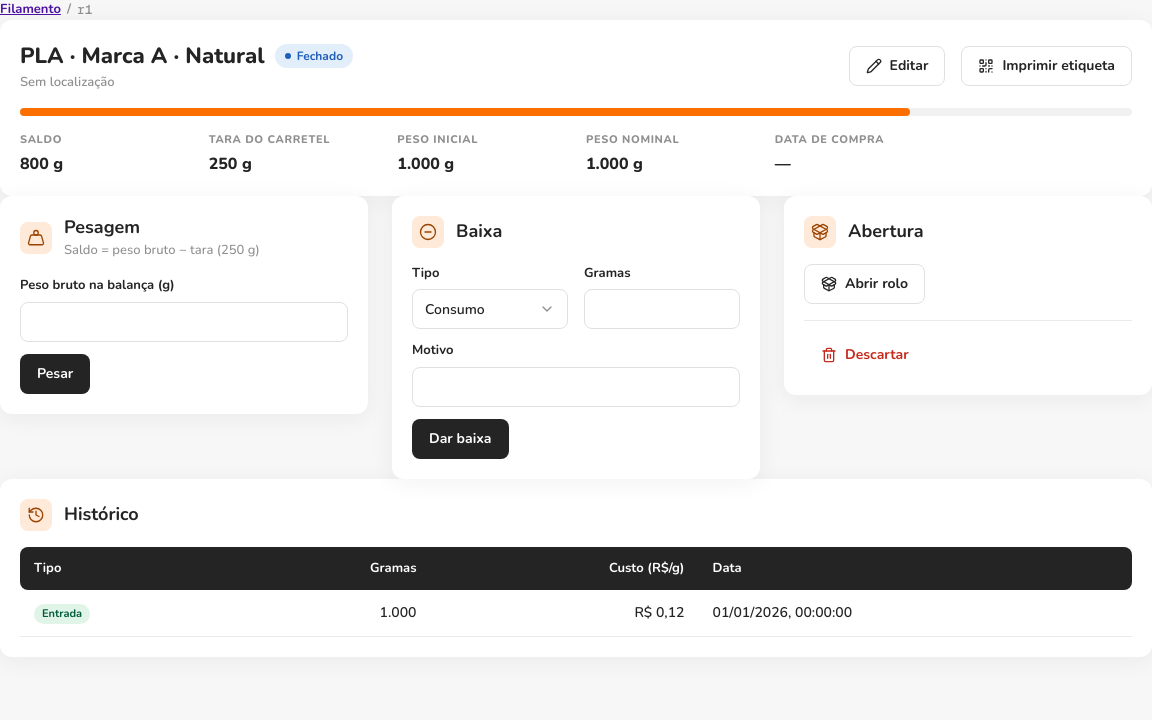
Test: Roll detail page › confirms before discarding
The width and height of the screenshot is (1152, 720).
Check: the text "entrada" is shown, box 34,604 -> 90,624
Click the button "Descartar".
click(865, 354)  # box 804,334 -> 926,374
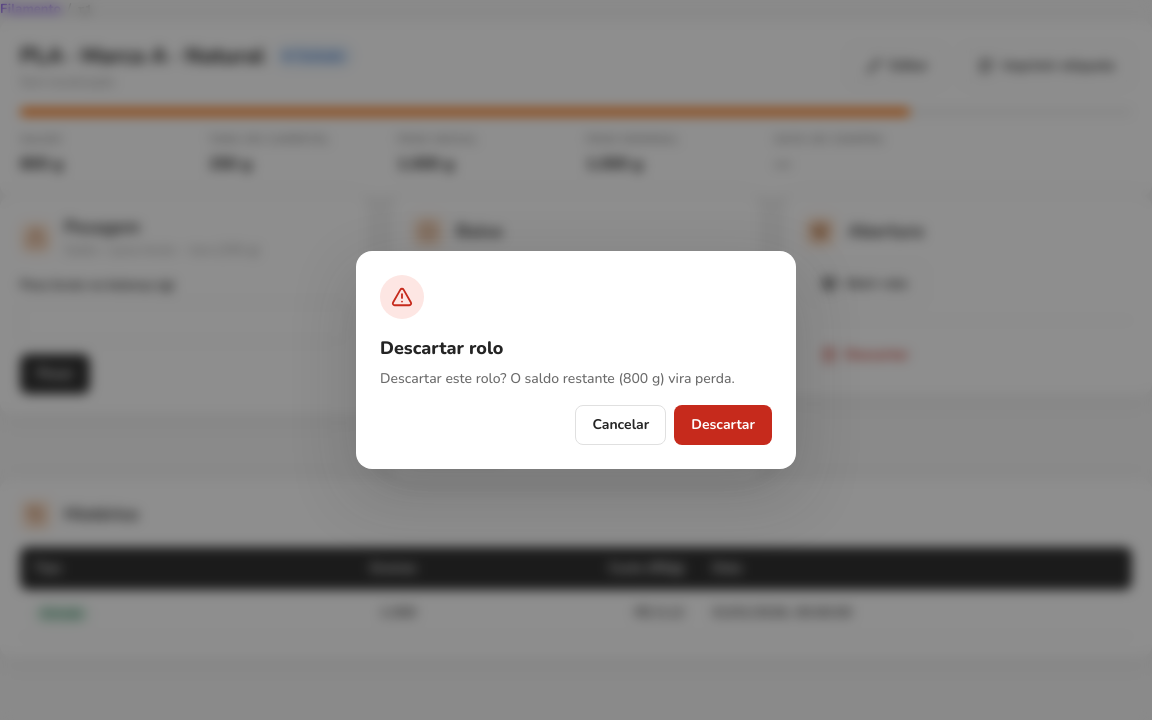
Click the button "Cancelar".
click(621, 425)  # box 576,405 -> 666,445
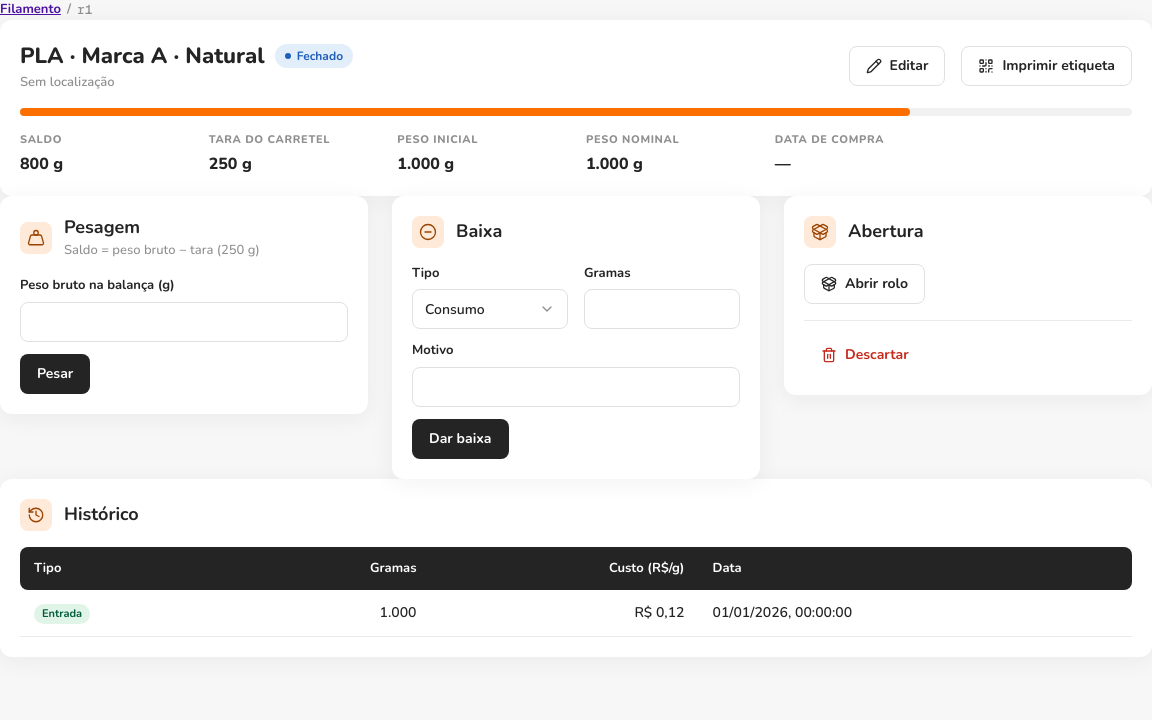
Check: the dialog is gone
Click the button "Descartar".
click(865, 354)  # box 804,334 -> 926,374
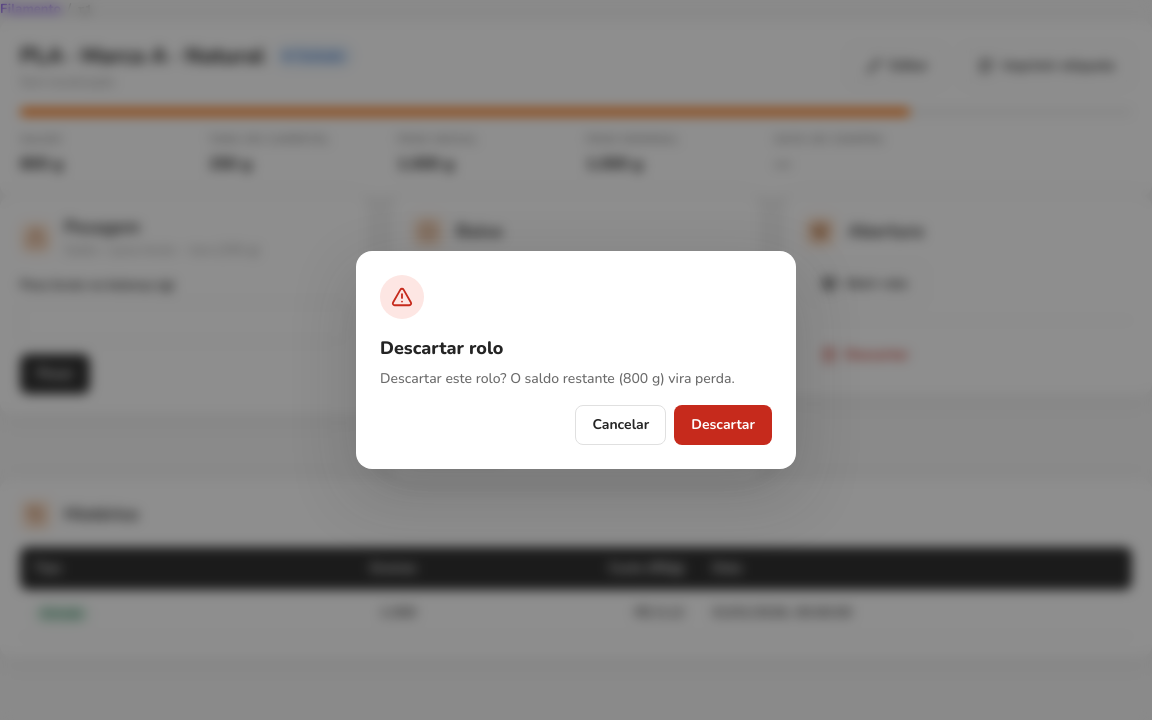
Click the button "Descartar".
click(723, 425)  # box 674,405 -> 772,445
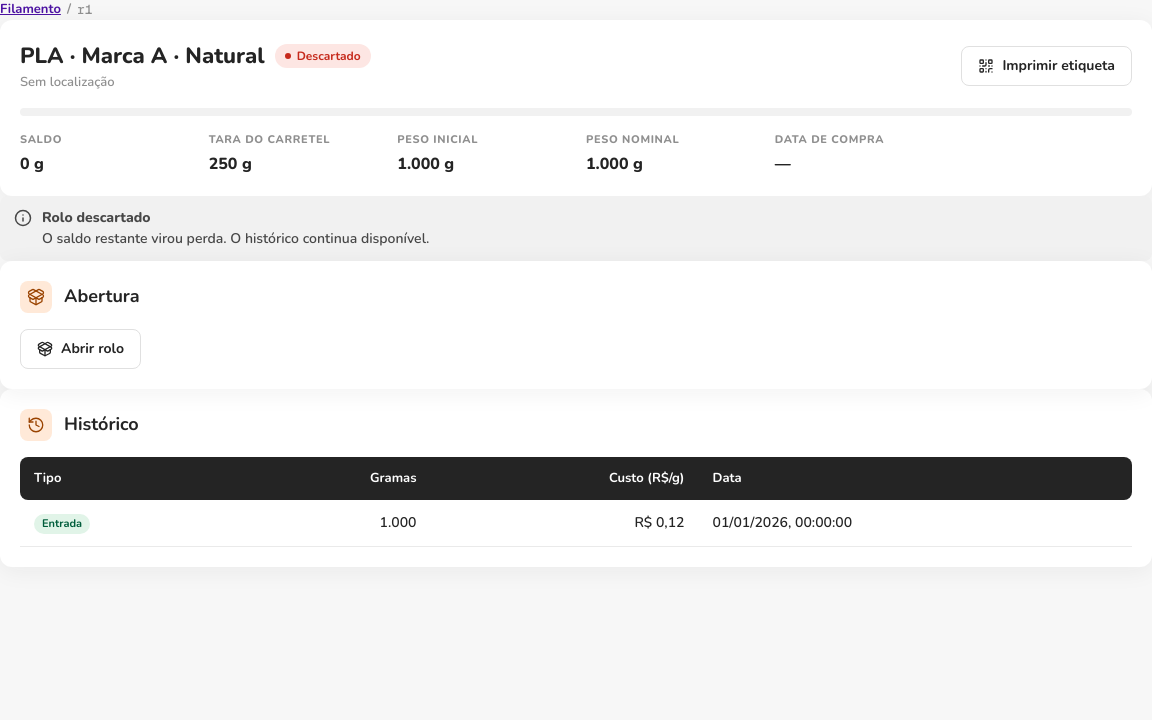
Check: the text "descartado" is shown, box 275,44 -> 371,68
